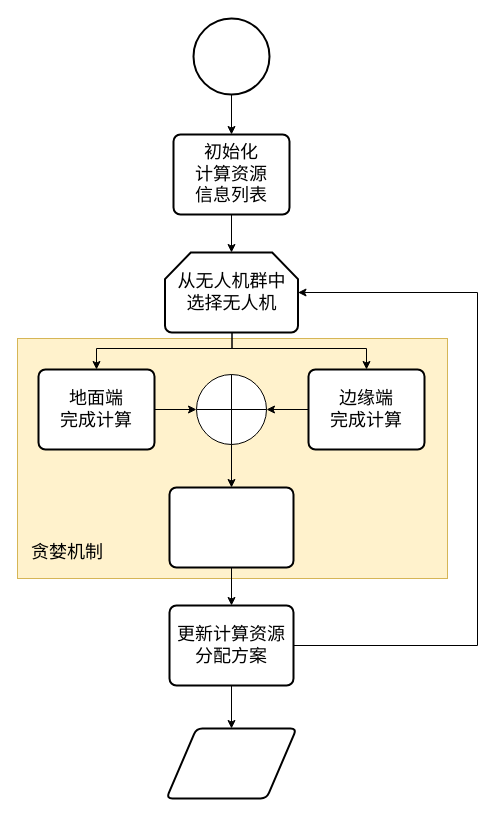
Image size: 503x816. Some labels were removed from this diagram. The shapes that lost their labels are listed below. From the top down, each one's centre as x and y in pixels, then its label:
At (x=231, y=56): "开始".
At (x=231, y=527): "选择最优决策".
At (x=231, y=763): "计算资源 分配方案".
